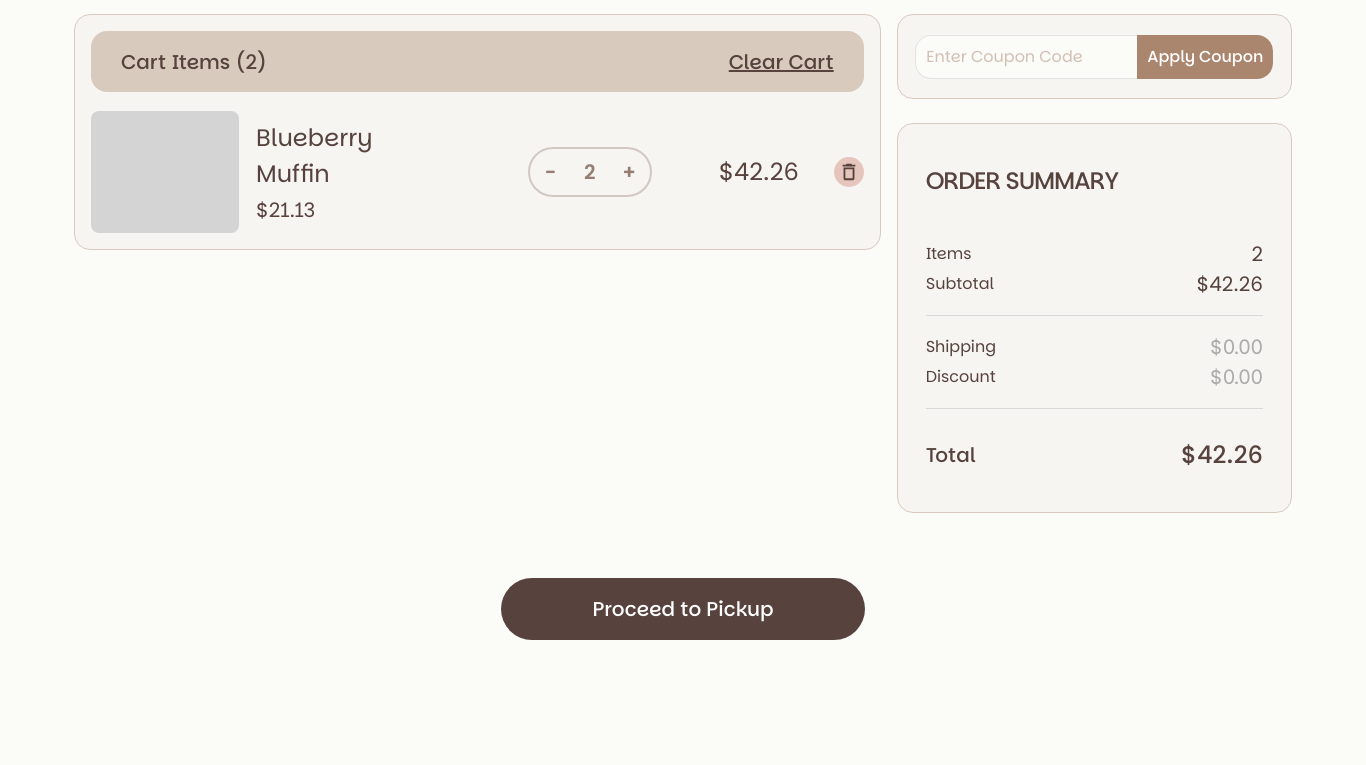
Scenario: Pickup stage 2 - Step 01, the contact form › shows the real store name from config, not a hardcoded one
(page scrolled)
Click the button "Proceed to Pickup": (683, 609) [501,578,865,640]
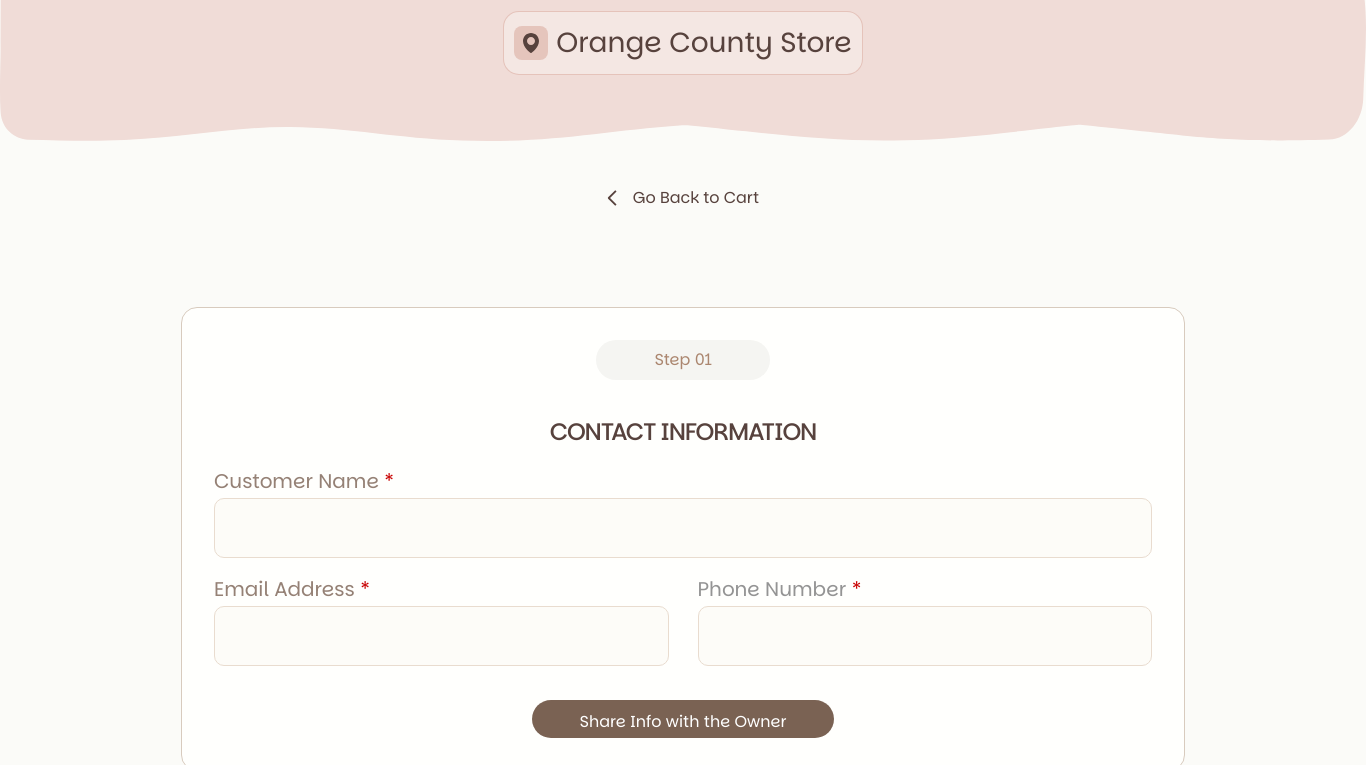
Expected: the text "Orange County Store" is shown, [556,22,852,64]
Expected: the text "Step 01" is shown, [596,340,770,380]
